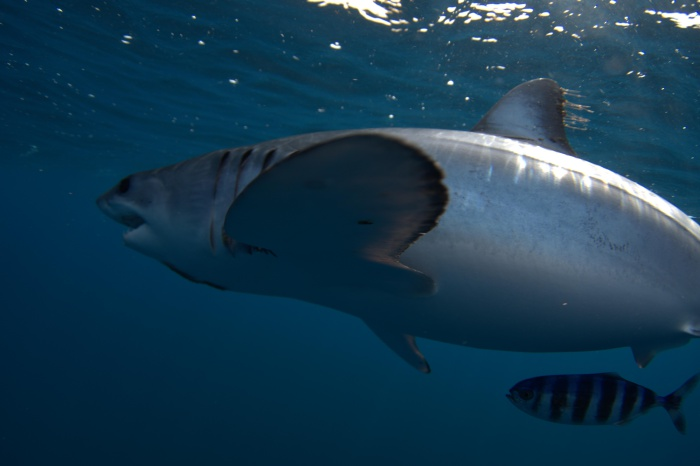Mako: (94, 65, 700, 384)
